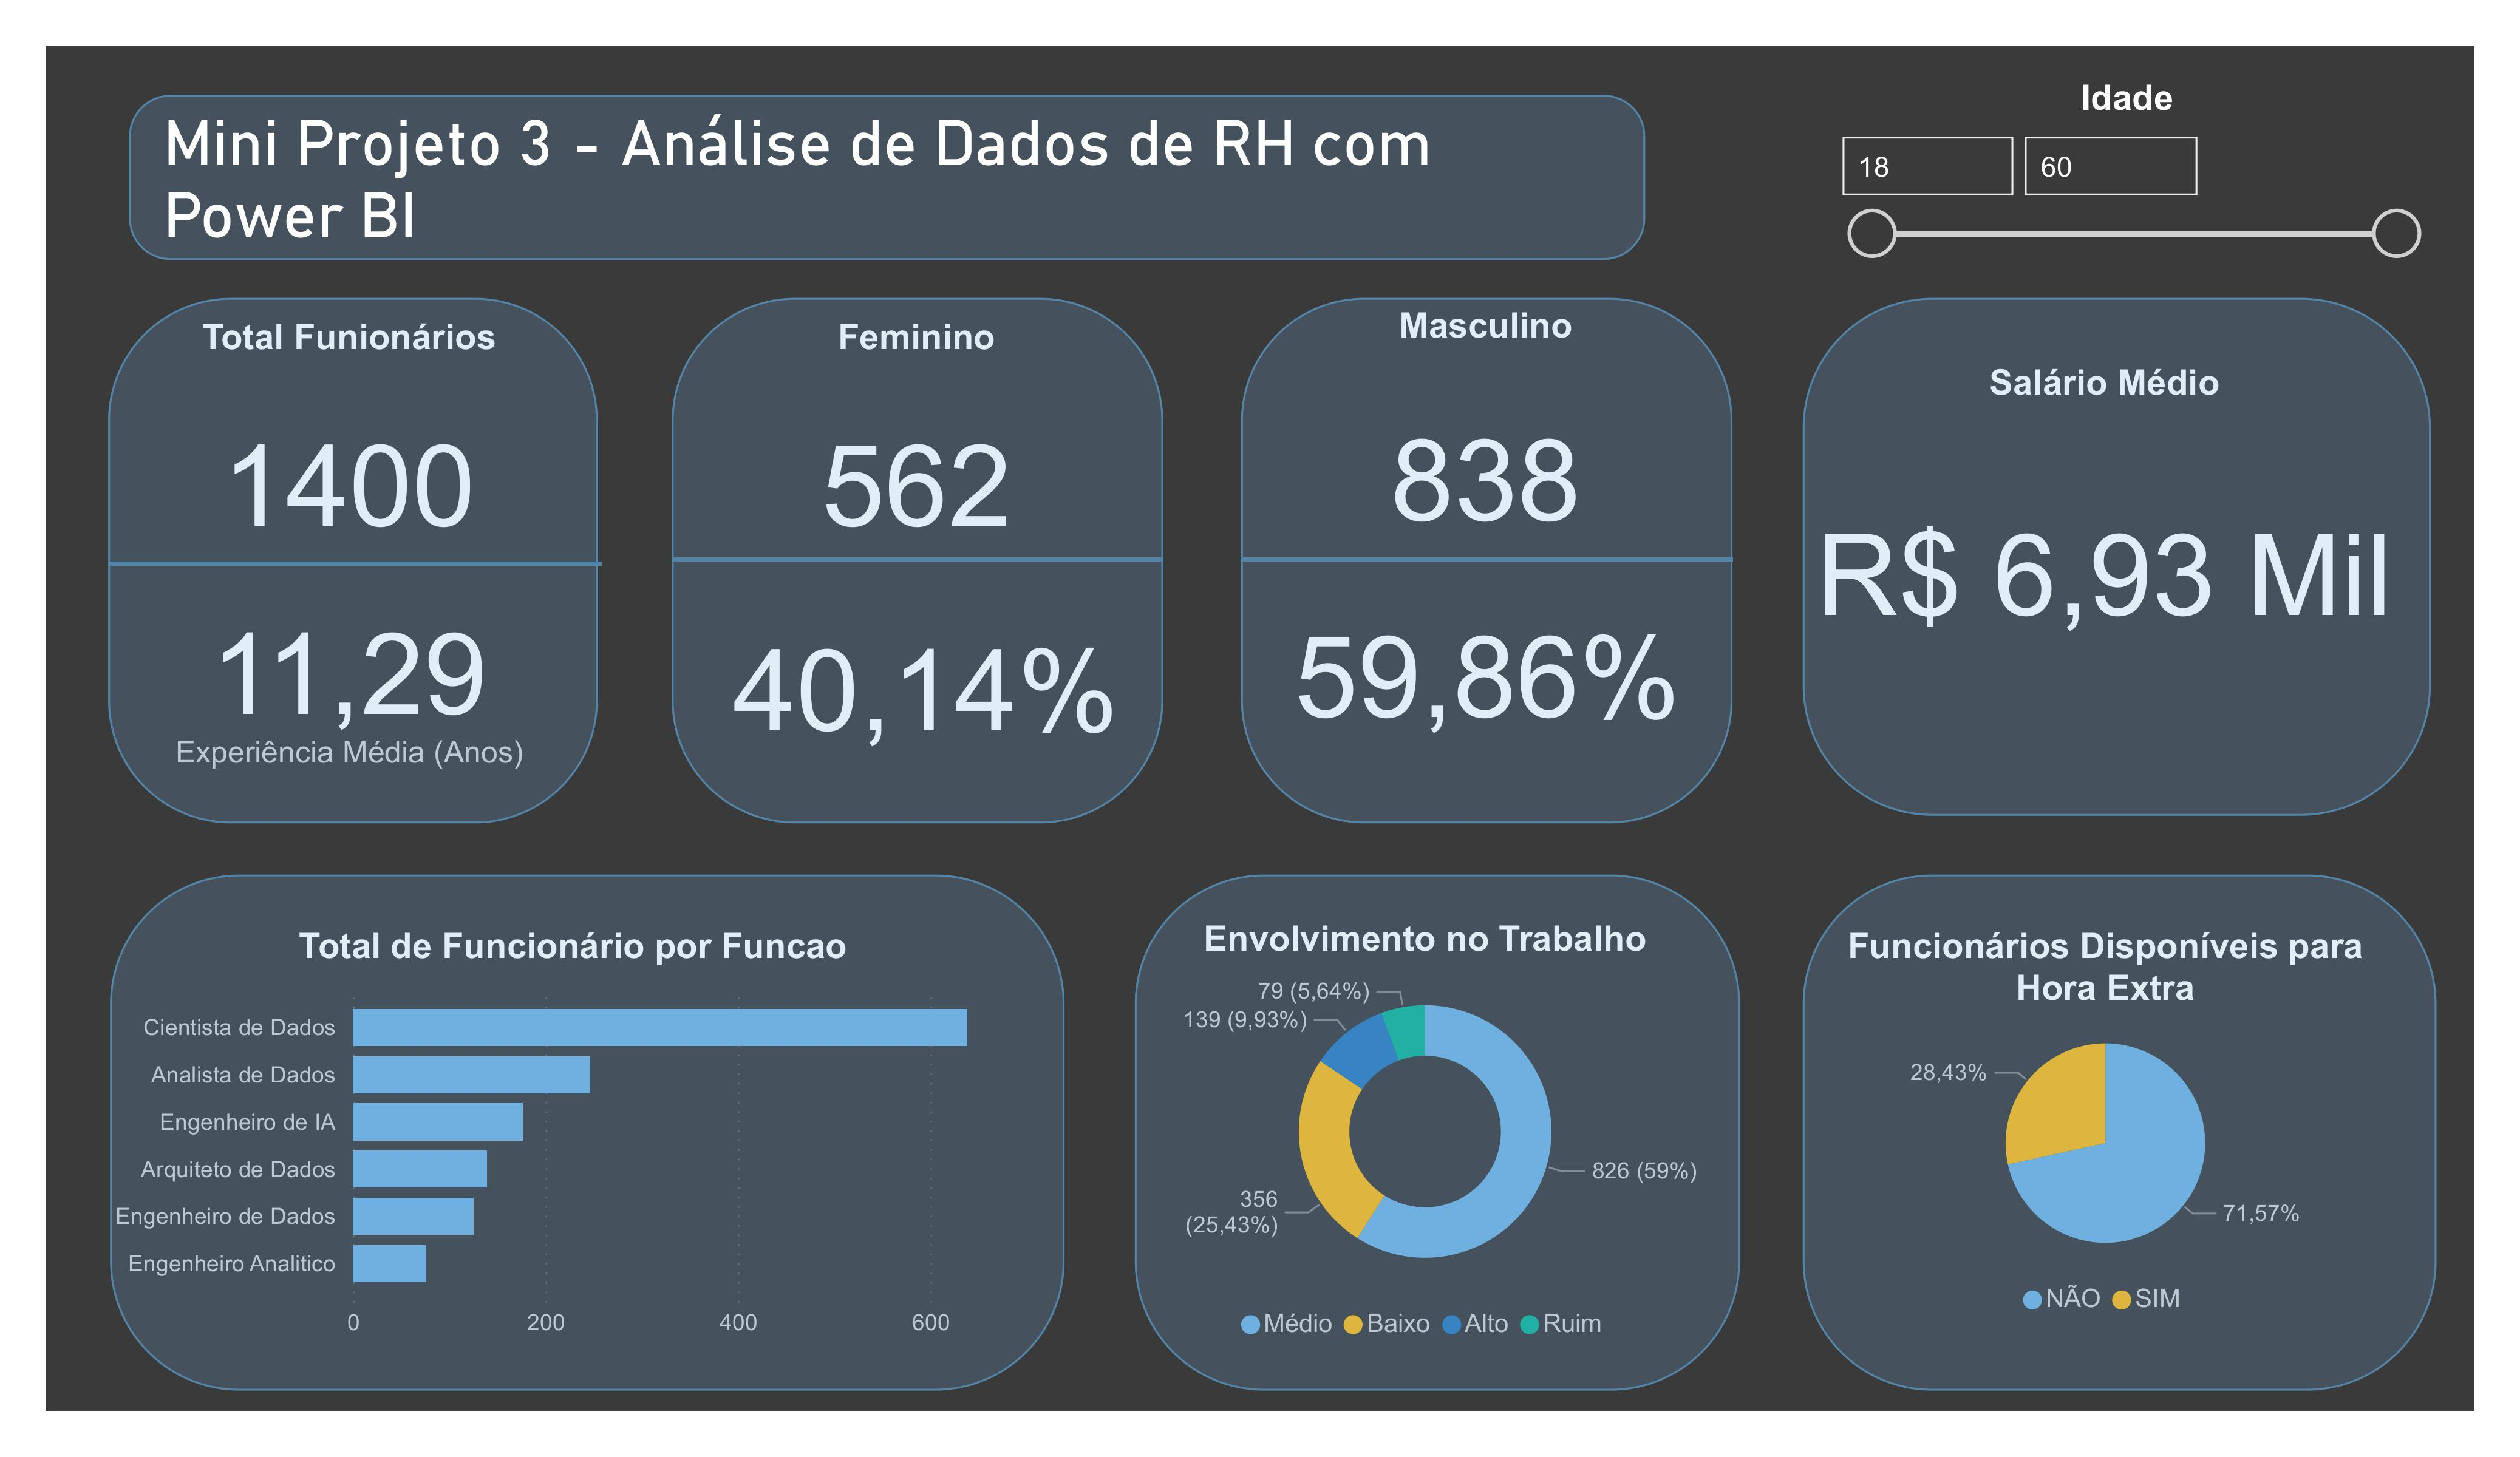

Layout of this report page (visuals, bound fields, positions):
{"tool":"powerbi","page":{"name":"Página 2","canvas":[1280,720],"ordinal":1},"visuals":[{"type":"card","title":"Total Funionários","fields":{"Values":["Medidas (2).totalfunc"]},"box":[44.3,142.9,231.4,147.1],"z":0},{"type":"card","title":"Feminino","fields":{"Values":["Medidas (2).totalfeminino"]},"box":[366.9,142.6,184.3,147.1],"z":1000},{"type":"card","title":"Masculino","fields":{"Values":["Medidas (2).totalmasculino"]},"box":[664.3,137.1,190,152.9],"z":2000},{"type":"card","fields":{"Values":["Medidas (2).%feminino"]},"box":[354.3,277.1,220,115.7],"z":3000},{"type":"card","fields":{"Values":["Medidas (2).%masculino"]},"box":[641.4,262.9,237.1,130],"z":4000},{"type":"card","title":"Salário Médio ","fields":{"Values":["Medidas (2).SalarioMedio"]},"box":[910,167.1,350,192.9],"z":5000},{"type":"card","fields":{"Values":["Avg(DatasetRH.Anos_Experiencia)"]},"box":[44.3,280,231.4,110],"z":6000},{"type":"pieChart","title":"Funcionários Disponíveis para Hora Extra","fields":{"Category":["DatasetRH.Disponivel_Hora_Extra"],"Y":["Medidas (2).totalfunc"]},"box":[924.3,464.3,322.9,215.7],"z":7000},{"type":"barChart","title":"Total de Funcionário por Funcao","fields":{"Y":["Medidas (2).totalfunc"],"Category":["DatasetRH.Funcao"]},"box":[22.9,464.3,510,224.3],"z":8000},{"type":"donutChart","title":" Envolvimento no Trabalho","fields":{"Y":["Medidas (2).totalfunc"],"Category":["DatasetRH.EnvolvTrabalho"]},"box":[551.4,460,351.4,232.9],"z":9000},{"type":"slicer","title":"Idade","fields":{"Values":["DatasetRH.Idade"]},"box":[934.3,17.1,325.7,105.7],"z":10000},{"type":"shape","box":[32.9,132.9,258.6,277.1],"z":12000},{"type":"shape","box":[925.7,132.9,331.4,272.9],"z":14000},{"type":"shape","box":[34.3,437.1,502.9,271.4],"z":15000},{"type":"shape","box":[574.3,437.1,318.6,271.4],"z":16000},{"type":"shape","box":[925.7,437.1,334.3,271.4],"z":17000},{"type":"shape","box":[44.3,25.7,798.6,87.1],"z":17001},{"type":"shape","box":[330,132.9,258.6,277.1],"z":17002},{"type":"shape","box":[630,132.9,258.6,277.1],"z":17003},{"type":"textbox","box":[57.1,27.1,744.3,87.1],"z":17004},{"type":"shape","box":[34.3,122.9,258.6,300],"z":17005},{"type":"shape","box":[330,121.4,258.6,300],"z":17006},{"type":"shape","box":[630,121.4,258.6,300],"z":17007}]}

Visuals, with their boxes on the page's 1280x720 design canvas (x1, y1, x2, y2). These are canvas units, not pixel positions in the 2520x1457 screenshot, which may show the page scaled, cropped or inside an application window:
"Total Funionários" card: BBox(44, 143, 276, 290)
"Feminino" card: BBox(367, 143, 551, 290)
"Masculino" card: BBox(664, 137, 854, 290)
card - Medidas (2).%feminino: BBox(354, 277, 574, 393)
card - Medidas (2).%masculino: BBox(641, 263, 878, 393)
"Salário Médio " card: BBox(910, 167, 1260, 360)
card - Avg(DatasetRH.Anos_Experiencia): BBox(44, 280, 276, 390)
"Funcionários Disponíveis para Hora Extra" pieChart: BBox(924, 464, 1247, 680)
"Total de Funcionário por Funcao" barChart: BBox(23, 464, 533, 689)
" Envolvimento no Trabalho" donutChart: BBox(551, 460, 903, 693)
"Idade" slicer: BBox(934, 17, 1260, 123)
shape: BBox(33, 133, 292, 410)
shape: BBox(926, 133, 1257, 406)
shape: BBox(34, 437, 537, 708)
shape: BBox(574, 437, 893, 708)
shape: BBox(926, 437, 1260, 708)
shape: BBox(44, 26, 843, 113)
shape: BBox(330, 133, 589, 410)
shape: BBox(630, 133, 889, 410)
textbox: BBox(57, 27, 801, 114)
shape: BBox(34, 123, 293, 423)
shape: BBox(330, 121, 589, 421)
shape: BBox(630, 121, 889, 421)
